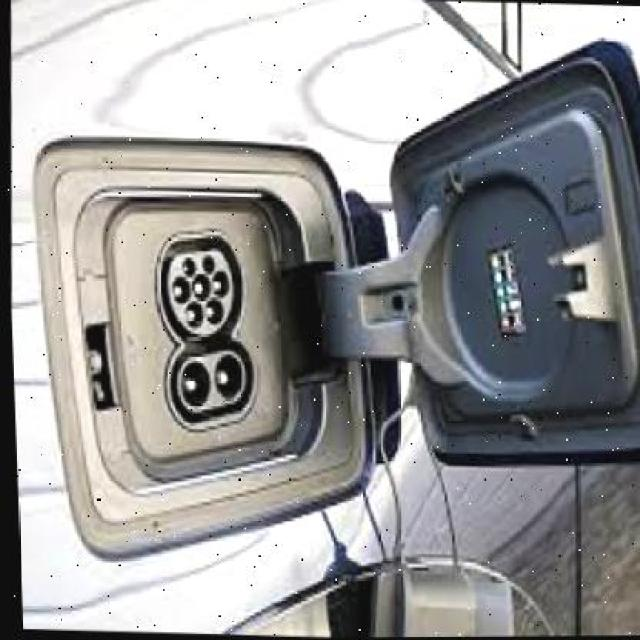CCS2: (143, 223, 277, 445)
